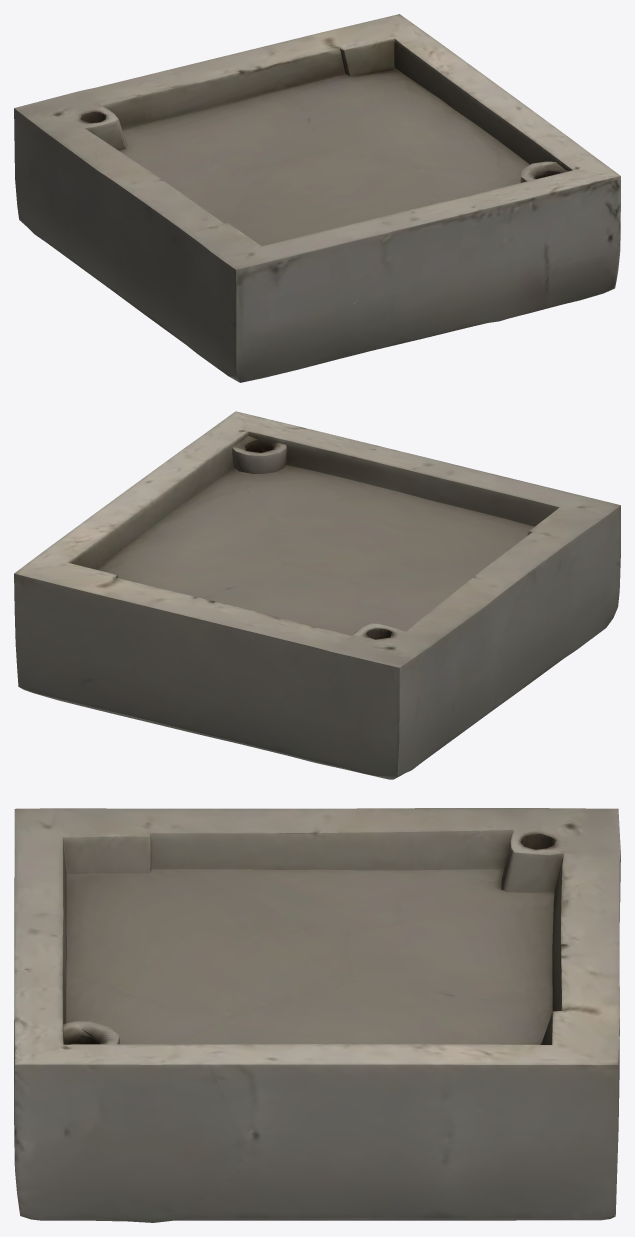
Rendered from buildSlab.glb.
The picture shows the model from 3 angles, top to bottom: view 1: azimuth 30°, elevation 25°; view 2: azimuth 150°, elevation 25°; view 3: azimuth 270°, elevation 25°; orthographic projection. The views are drawn at different scales.
Parts seen in each view (by area): view 1: model; view 2: model; view 3: model.
Part boxes in pixels (x1,y1,x2,y2): model: (14,14,620,382); model: (14,411,620,779); model: (14,808,620,1222).
Bounding box in the file's own units: 1.89 × 0.5677 × 1.89.
1 material, 1 textured.
